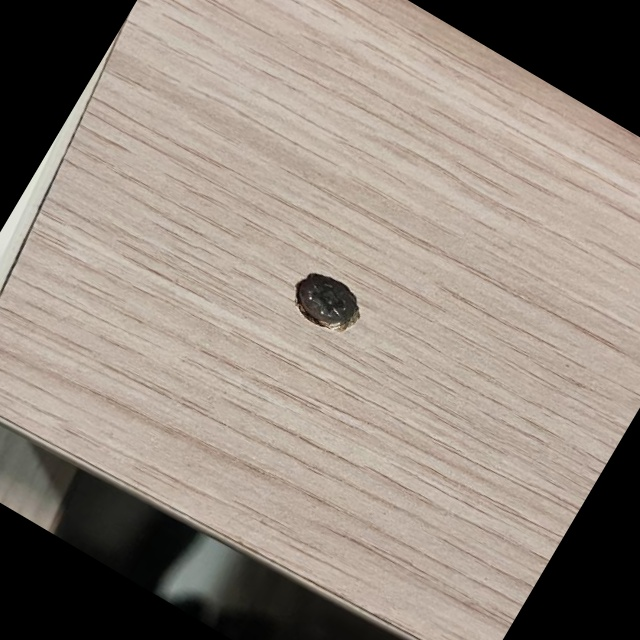pozidriv: (288, 264, 365, 335)
